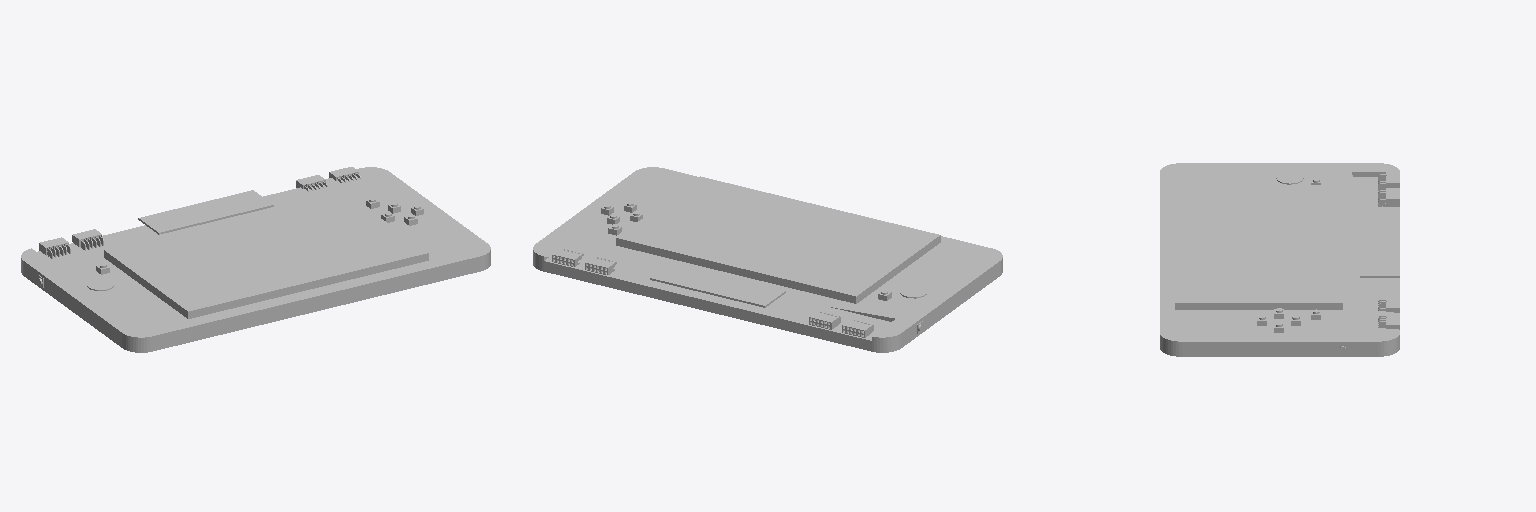
File: Enigma Rev A.obj
3 views of the same model, side by side, from view 1: azimuth 30°, elevation 25°; view 2: azimuth 150°, elevation 25°; view 3: azimuth 270°, elevation 25° (orthographic).
Parts seen in each view (by area): view 1: Mesh21 Model, Mesh1 Group2 Group1 Model, Mesh20 HSMC1 Model; view 2: Mesh21 Model, Mesh1 Group2 Group1 Model, Mesh20 HSMC1 Model; view 3: Mesh1 Group2 Group1 Model, Mesh21 Model, Mesh20 HSMC1 Model.
Part boxes in pixels (x1,y1,x2,y2): Mesh21 Model: (21, 167, 490, 352); Mesh1 Group2 Group1 Model: (104, 191, 428, 318); Mesh20 HSMC1 Model: (138, 190, 273, 234); Mesh21 Model: (533, 167, 1002, 352); Mesh1 Group2 Group1 Model: (616, 176, 940, 303); Mesh20 HSMC1 Model: (650, 263, 785, 307); Mesh1 Group2 Group1 Model: (1175, 185, 1342, 309); Mesh21 Model: (1160, 163, 1399, 356); Mesh20 HSMC1 Model: (1360, 220, 1399, 277).
Size of the model in its own units: 10.02 by 0.6189 by 5.63.